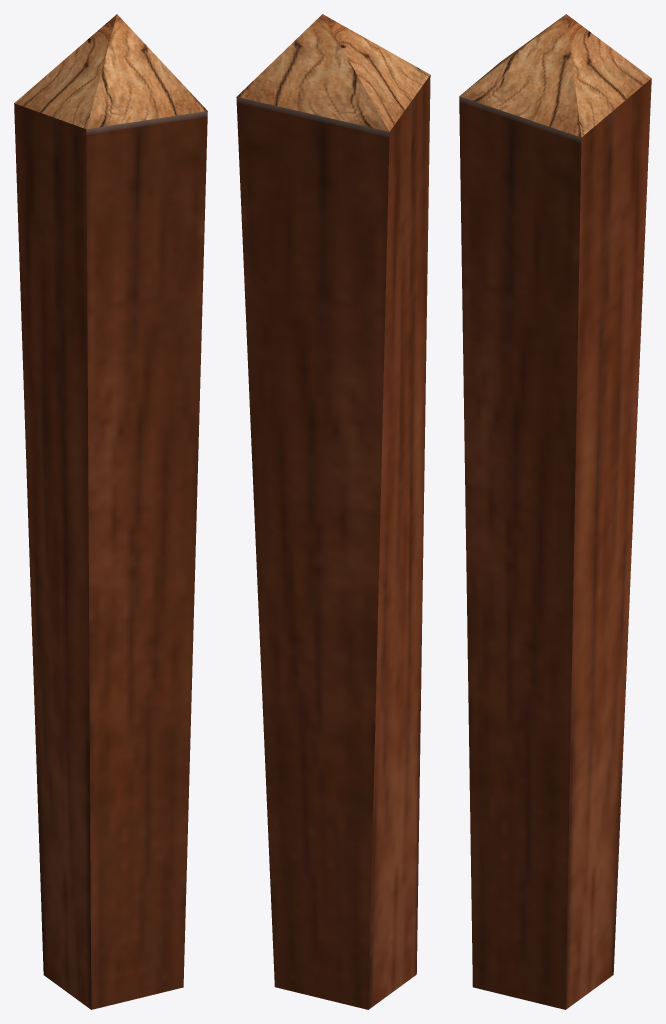
File: corral_003.fbx
The picture shows the model from 3 angles, left to right: view 1: azimuth 30°, elevation 25°; view 2: azimuth 150°, elevation 25°; view 3: azimuth 330°, elevation 25°; orthographic projection.
Visible parts, largest first — view 1: corral.003; view 2: corral.003; view 3: corral.003.
Part boxes in pixels (<box>): corral.003: <box>14,14,207,1009</box>; corral.003: <box>236,14,430,1009</box>; corral.003: <box>459,14,651,1009</box>.
Bounding box in the file's own units: 21.4 × 141 × 18.21.
